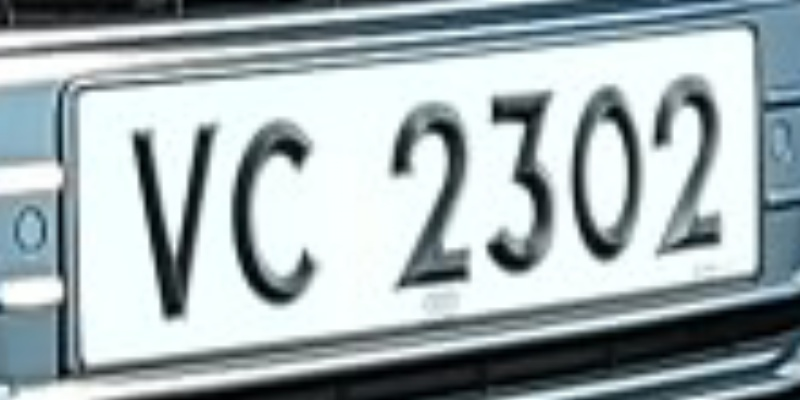0: (559, 72, 647, 291)
2: (371, 66, 481, 330), (643, 61, 733, 282)
3: (472, 65, 562, 315)
C: (221, 100, 332, 336)
V: (116, 108, 229, 344)
